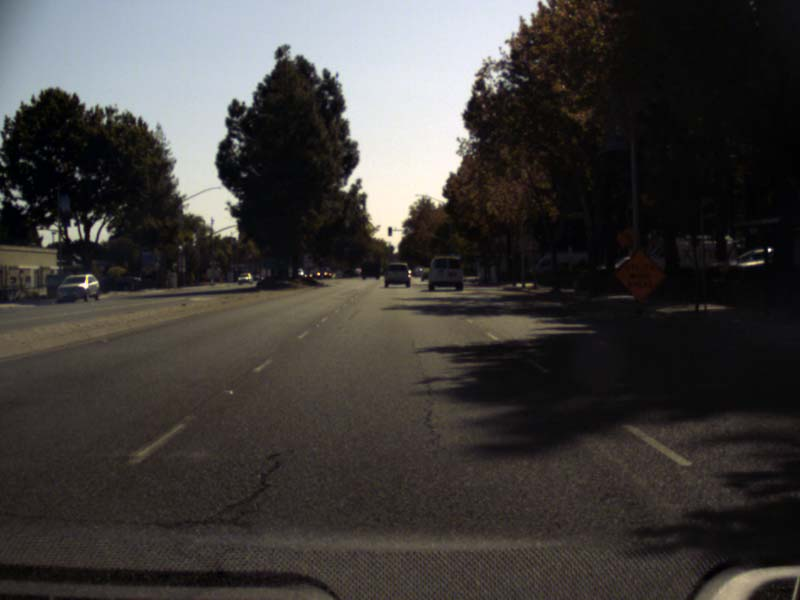Green: (388, 226, 391, 235)
